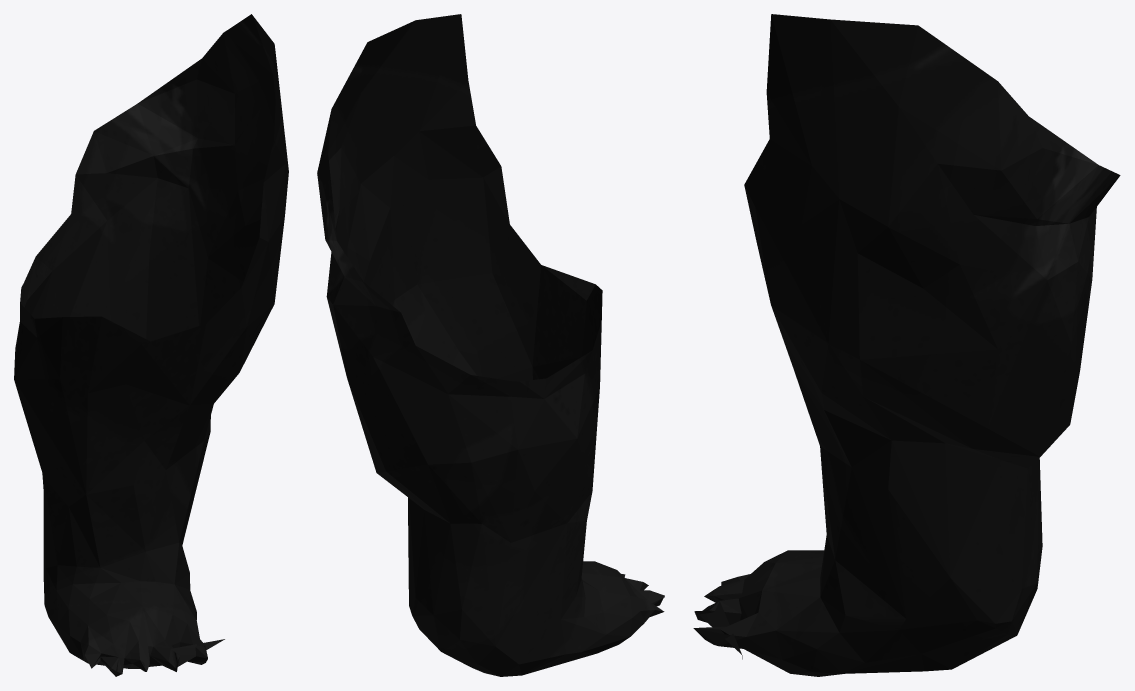
Rendered from PataDelanteraIP.obj.
3 views of the same model, side by side, from view 1: azimuth 30°, elevation 25°; view 2: azimuth 150°, elevation 25°; view 3: azimuth 270°, elevation 25° (orthographic). The views are drawn at different scales.
Visible parts, largest first — view 1: panda.005; view 2: panda.005; view 3: panda.005.
Boxes of the visible parts, x1,y1,x2,y2 form: panda.005: (14,14,288,676); panda.005: (317,14,664,676); panda.005: (693,14,1120,676).
Bounding box in the file's own units: 0.4928 × 1.12 × 0.5964.
